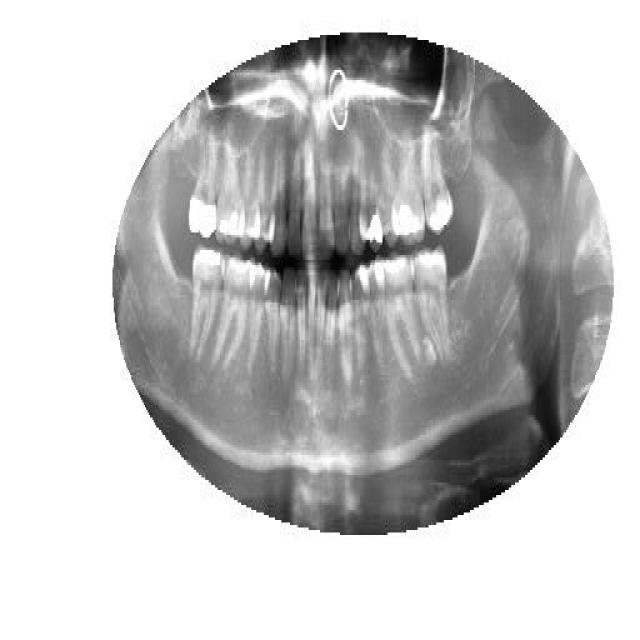Fillings: (190, 242, 224, 360), (423, 130, 455, 232), (395, 133, 424, 245), (188, 152, 222, 242), (217, 140, 245, 245), (368, 145, 383, 255)
